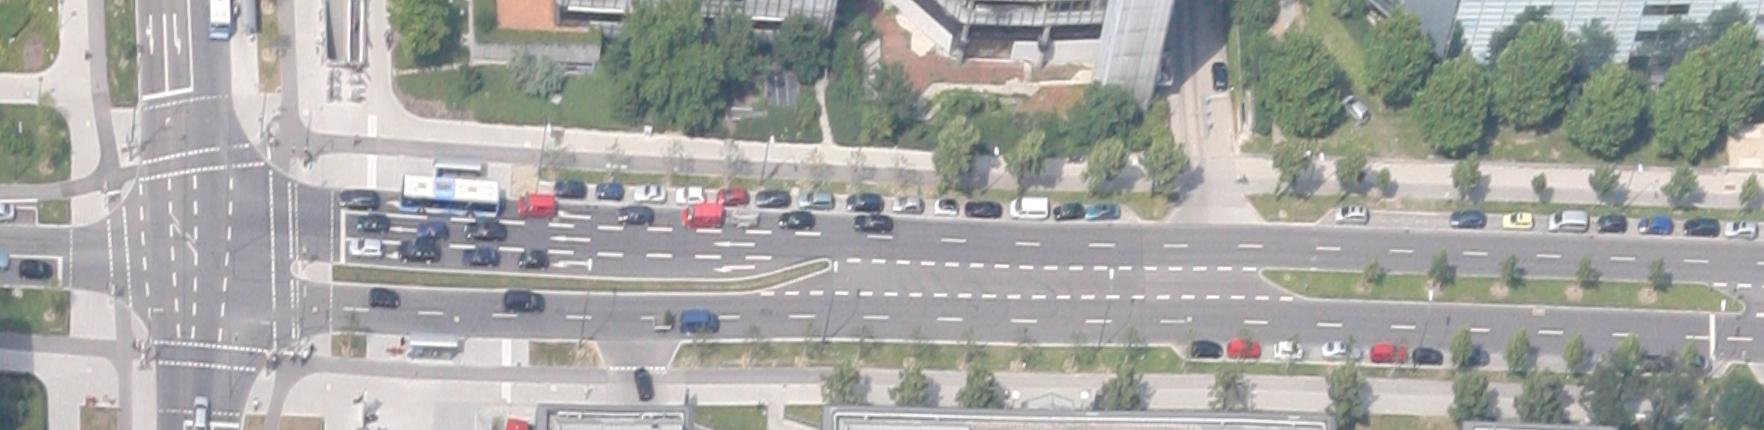car: (1338, 92, 1370, 125), (517, 194, 556, 220), (399, 240, 441, 263), (681, 205, 721, 229), (1548, 208, 1586, 233), (679, 310, 718, 333), (504, 292, 546, 313), (465, 222, 506, 242), (339, 188, 378, 209), (1009, 197, 1046, 220), (852, 213, 892, 233), (1322, 340, 1362, 360), (632, 366, 655, 402), (462, 245, 499, 267), (349, 236, 384, 259), (368, 287, 400, 310), (18, 259, 52, 280), (1370, 343, 1407, 362), (799, 189, 831, 210), (616, 206, 652, 225), (778, 210, 814, 230), (1683, 217, 1719, 236), (846, 192, 882, 212), (1637, 215, 1672, 234), (756, 189, 789, 209), (965, 200, 1001, 218), (1334, 205, 1368, 224), (1450, 210, 1485, 229), (1501, 210, 1533, 230), (357, 214, 388, 233), (1227, 340, 1260, 358), (1596, 214, 1627, 233), (717, 187, 747, 206), (1086, 203, 1119, 220), (517, 251, 549, 269), (1723, 220, 1755, 238), (1413, 346, 1442, 365), (676, 185, 705, 204), (1191, 340, 1222, 358), (634, 183, 665, 201), (1273, 340, 1302, 359), (192, 395, 208, 429), (555, 180, 585, 197), (418, 222, 447, 240), (1054, 201, 1082, 220), (596, 182, 622, 200), (1212, 62, 1227, 91), (893, 197, 921, 213), (935, 197, 958, 215), (731, 210, 756, 227), (651, 314, 675, 331)
